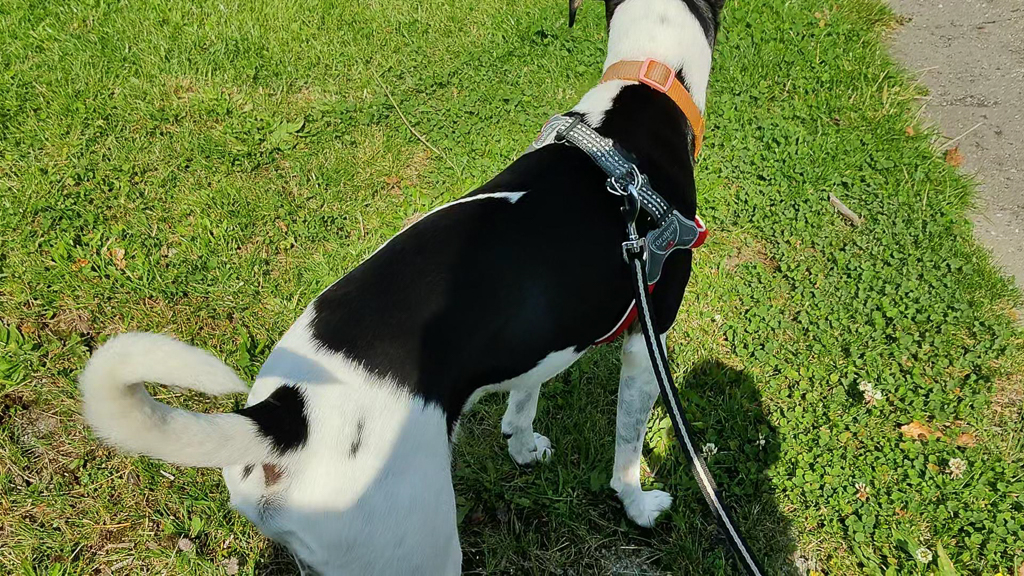Dog: (71, 0, 746, 576)
